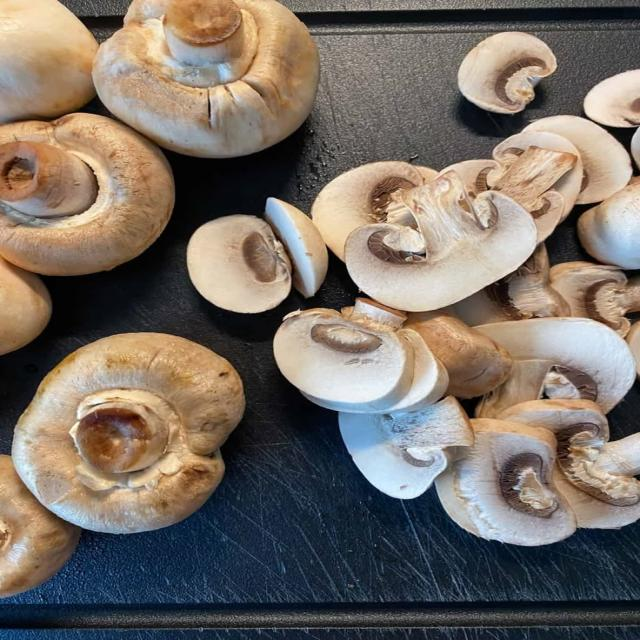champignon mushrooms: (13, 334, 244, 533), (94, 0, 319, 157), (0, 114, 174, 275), (346, 172, 536, 311), (274, 299, 448, 412), (500, 400, 639, 528), (436, 419, 575, 546), (187, 199, 327, 313), (475, 318, 635, 417), (440, 132, 582, 242), (340, 397, 473, 499), (312, 162, 435, 260), (0, 0, 98, 122), (0, 455, 80, 597), (487, 132, 582, 241), (187, 215, 291, 313), (454, 244, 572, 326), (524, 115, 632, 204), (406, 310, 513, 398), (458, 32, 556, 114), (551, 262, 639, 337), (265, 198, 327, 298), (578, 185, 639, 269), (0, 258, 51, 354), (584, 70, 639, 127), (439, 160, 499, 198), (626, 323, 639, 377), (416, 166, 438, 182), (631, 128, 639, 167)
